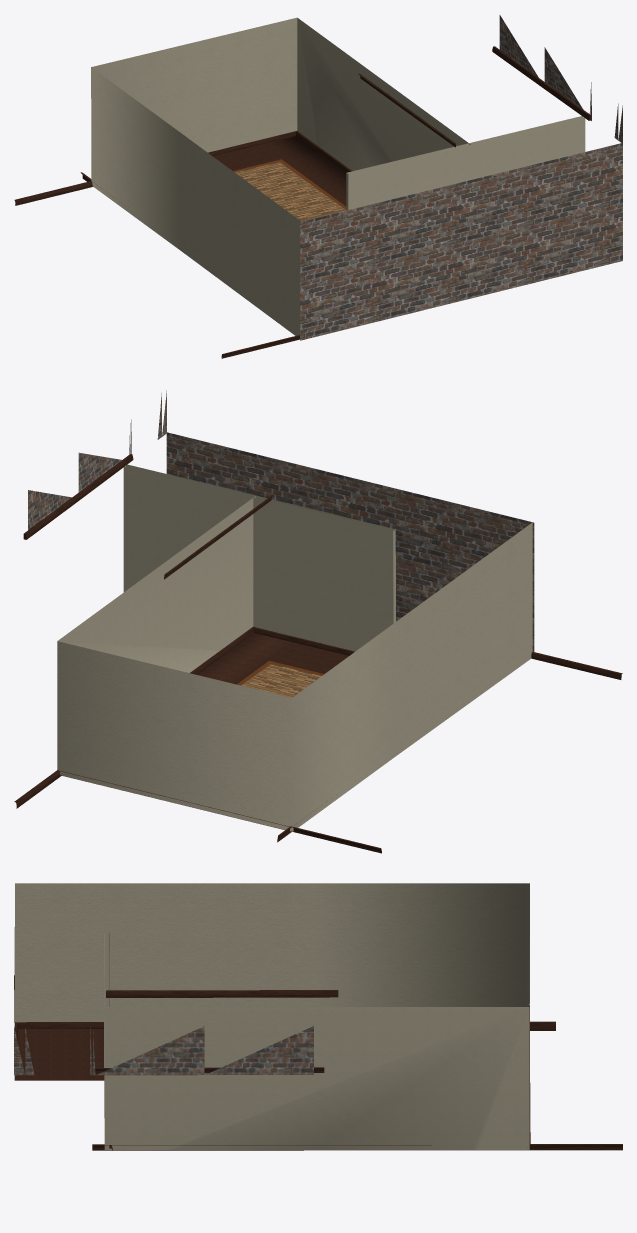
File: mdl_brush_hubbasement.gltf
3 renders of one model, top to bottom at view 1: azimuth 30°, elevation 25°; view 2: azimuth 150°, elevation 25°; view 3: azimuth 270°, elevation 25°, orthographic. The views are drawn at different scales.
Parts seen in each view (by area): view 1: Wall Textures Bake.057; view 2: Wall Textures Bake.057; view 3: Wall Textures Bake.057.
Boxes of the visible parts, left/top/right/bottom form: Wall Textures Bake.057: left=14, top=15, right=622, bottom=358; Wall Textures Bake.057: left=14, top=390, right=622, bottom=853; Wall Textures Bake.057: left=14, top=883, right=622, bottom=1150.
Size of the model in its own units: 22.52 by 8.56 by 24.27.
Materials: 6 (6 with a texture image).
